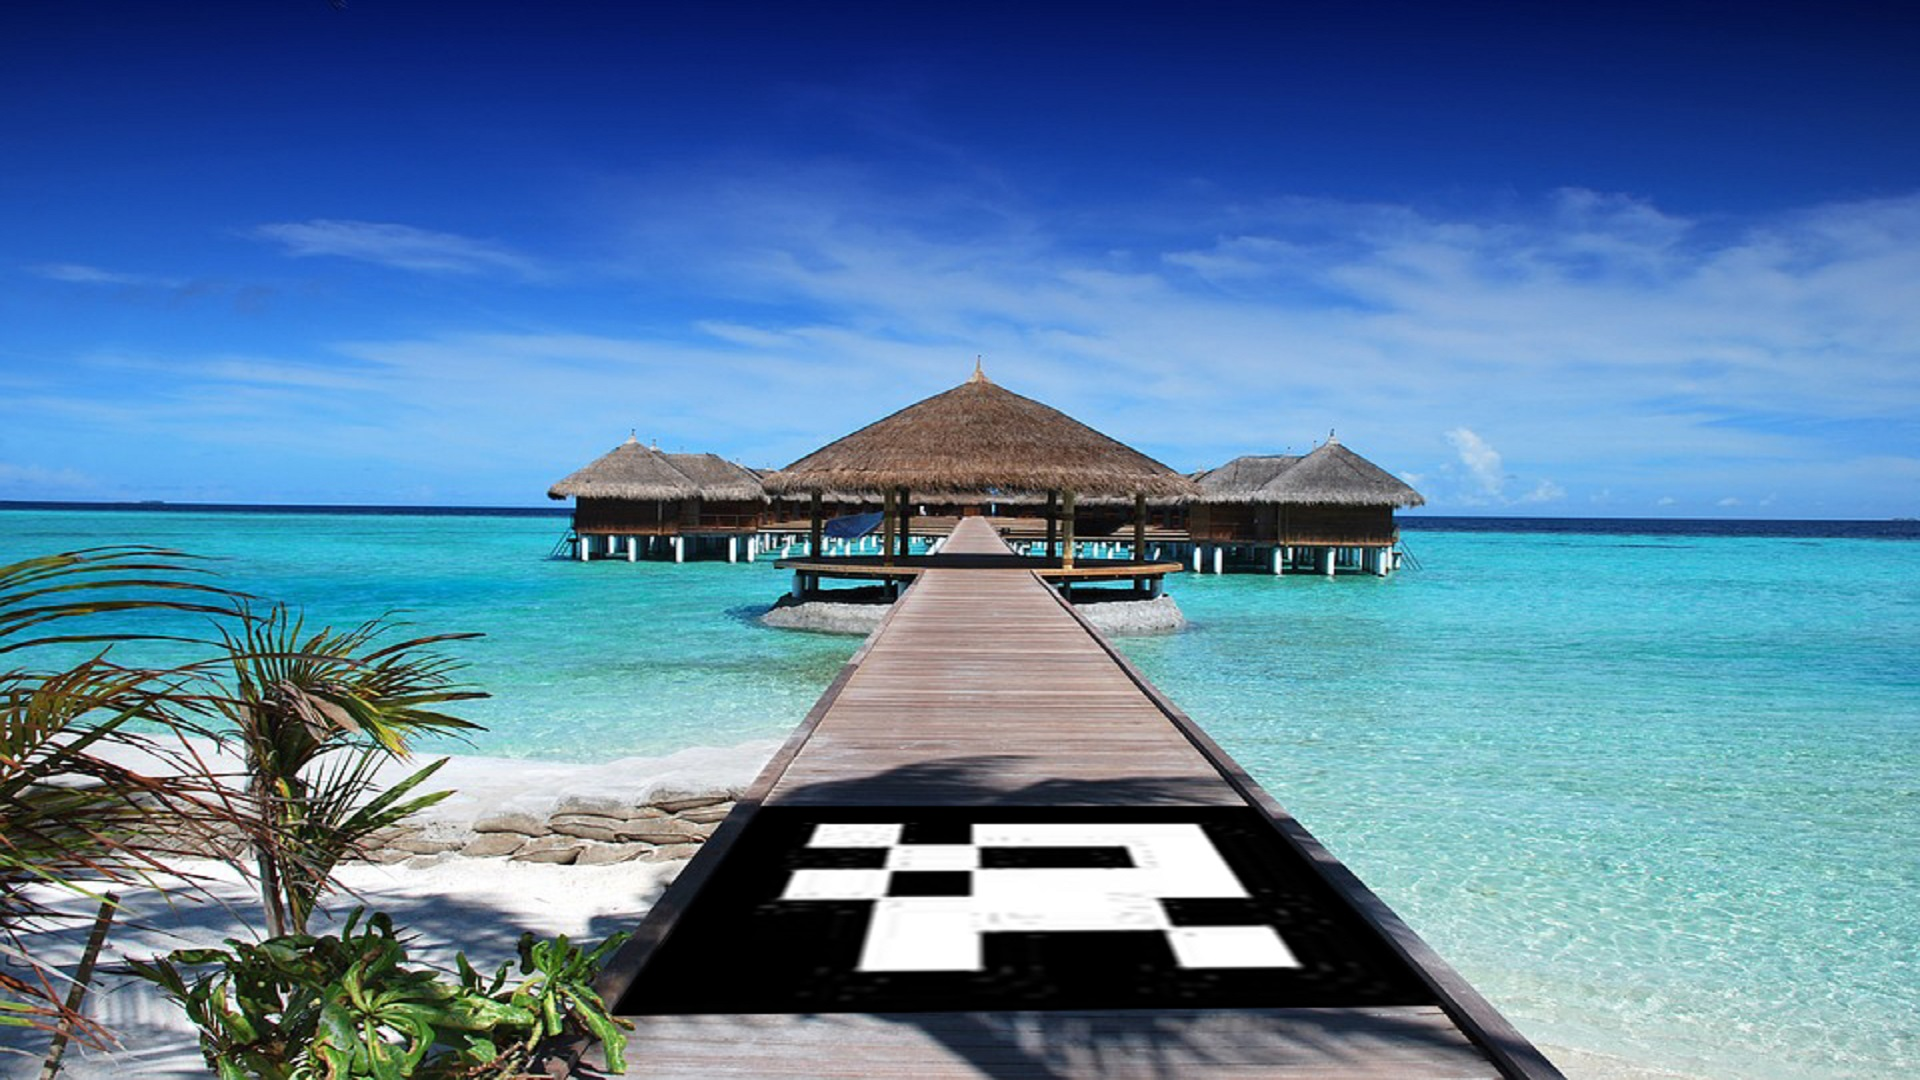marker: (607, 799, 1449, 1021)
